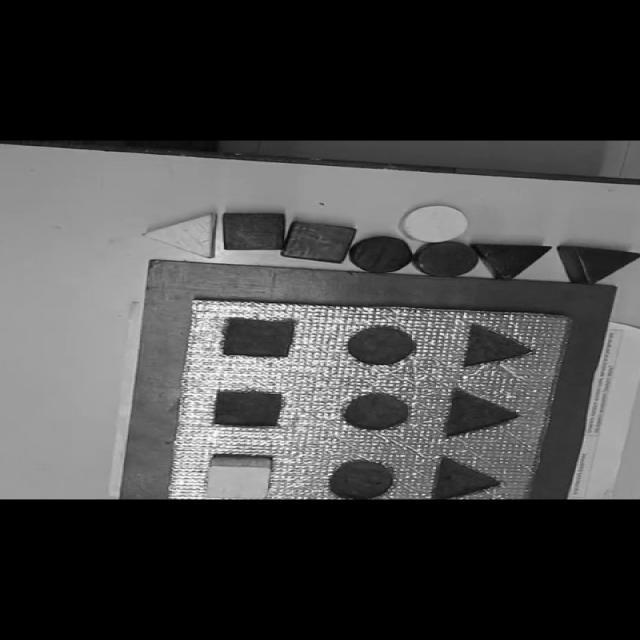bcircle: (350, 236, 412, 274)
bcube: (221, 212, 287, 250)
btriangle: (472, 244, 552, 282)
mtcircle: (346, 326, 417, 365), (328, 460, 395, 500), (342, 393, 410, 430)
mtcube: (220, 317, 297, 358), (211, 390, 285, 428)
mttriangle: (443, 388, 521, 438), (462, 323, 534, 368), (431, 456, 502, 501)
rcircle: (414, 241, 478, 277)
rcube: (282, 221, 356, 264)
rtriangle: (557, 246, 638, 286)
wb: (161, 298, 574, 498)
ycircle: (400, 206, 470, 243)
ycube: (206, 457, 272, 498)
ytriangle: (142, 214, 216, 258)
